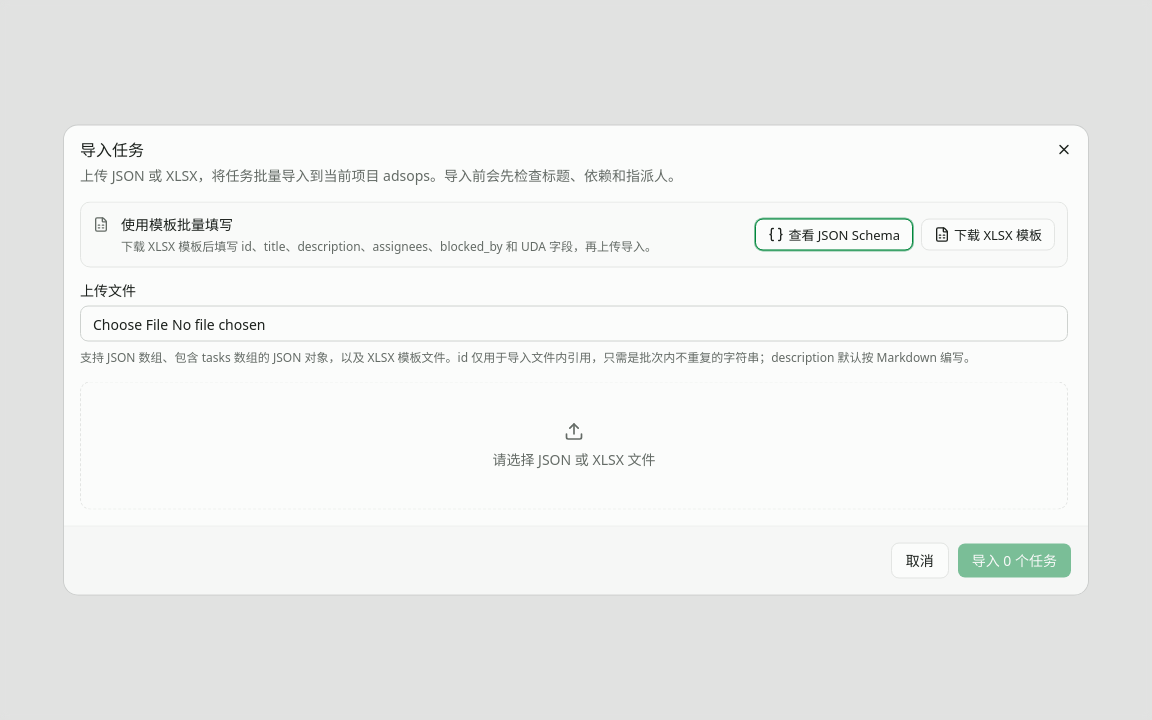
Test: TaskImportDialog › shows the complete JSON schema in a secondary dialog
Click the button "查看 JSON Schema": click(834, 234) [755, 218, 913, 250]
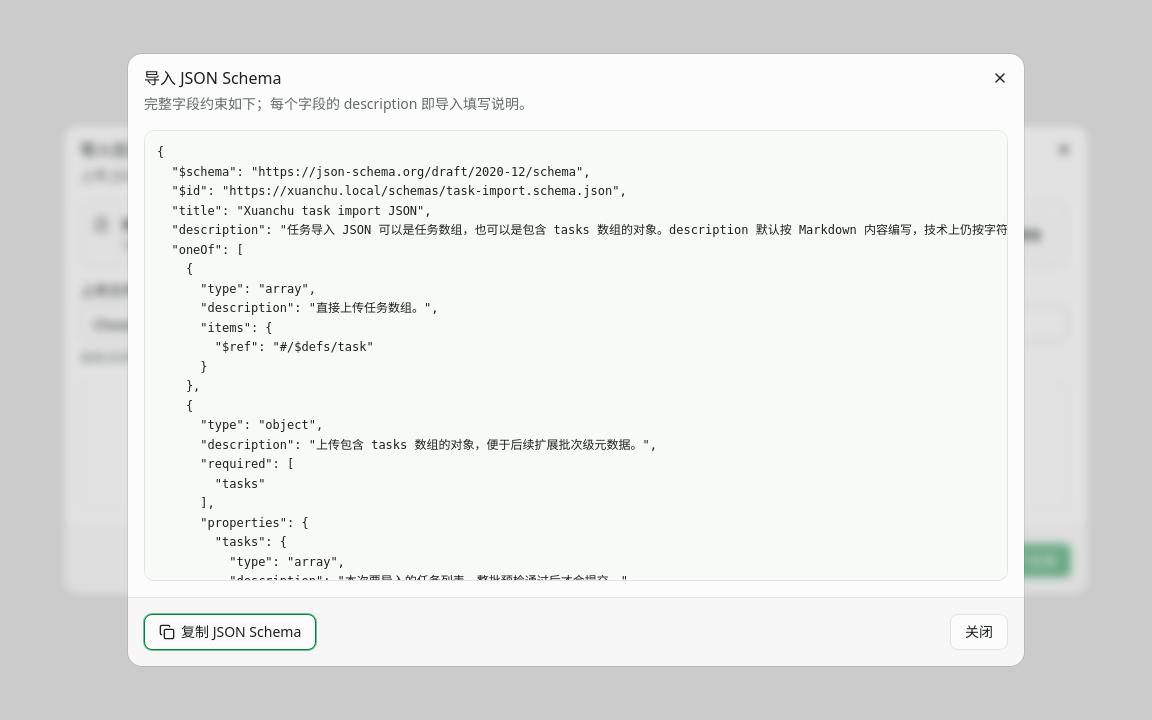
Check: the text "批次内不重复的字符串" is shown, box [80, 348, 976, 366]
Check: the dialog "导入 JSON Schema" is shown
